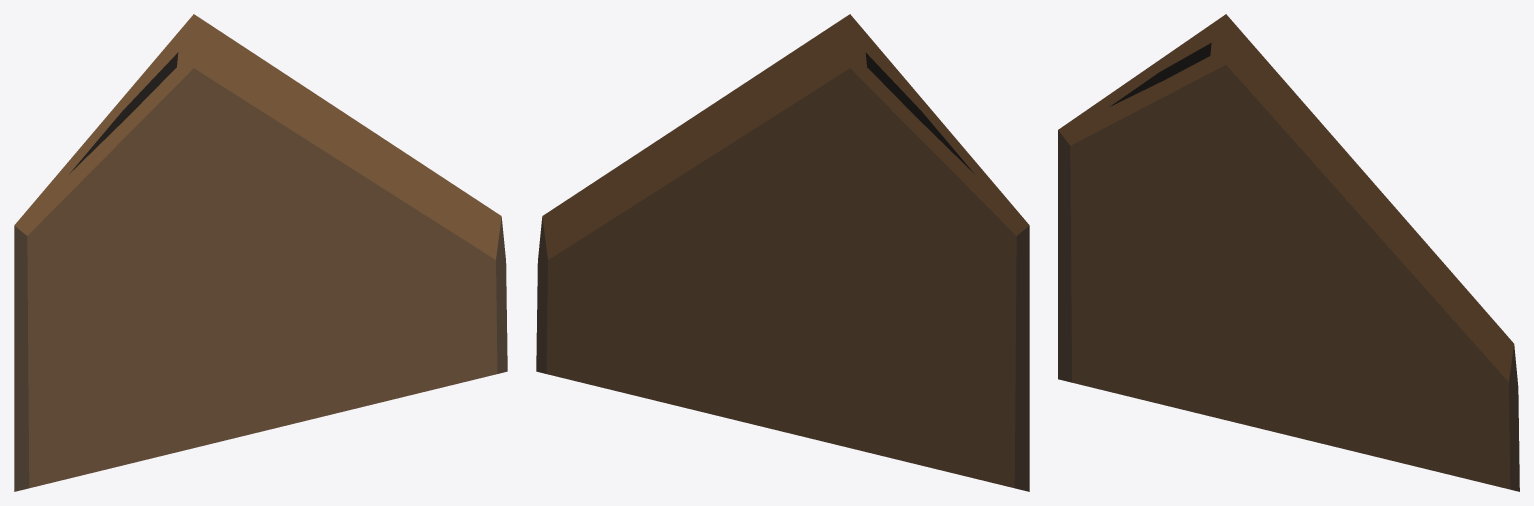
Rendered from knife_holder.FBX.
The picture shows the model from 3 angles, left to right: view 1: azimuth 30°, elevation 25°; view 2: azimuth 150°, elevation 25°; view 3: azimuth 330°, elevation 25°; orthographic projection. The views are drawn at different scales.
Parts seen in each view (by area): view 1: knife_holder; view 2: knife_holder; view 3: knife_holder.
Part boxes in pixels (x1,y1,x2,y2): knife_holder: [14, 14, 507, 491]; knife_holder: [536, 14, 1029, 491]; knife_holder: [1058, 14, 1519, 491].
Bounding box in the file's own units: 43.64 × 36.69 × 9.94e-06.
1 material, 1 textured.
